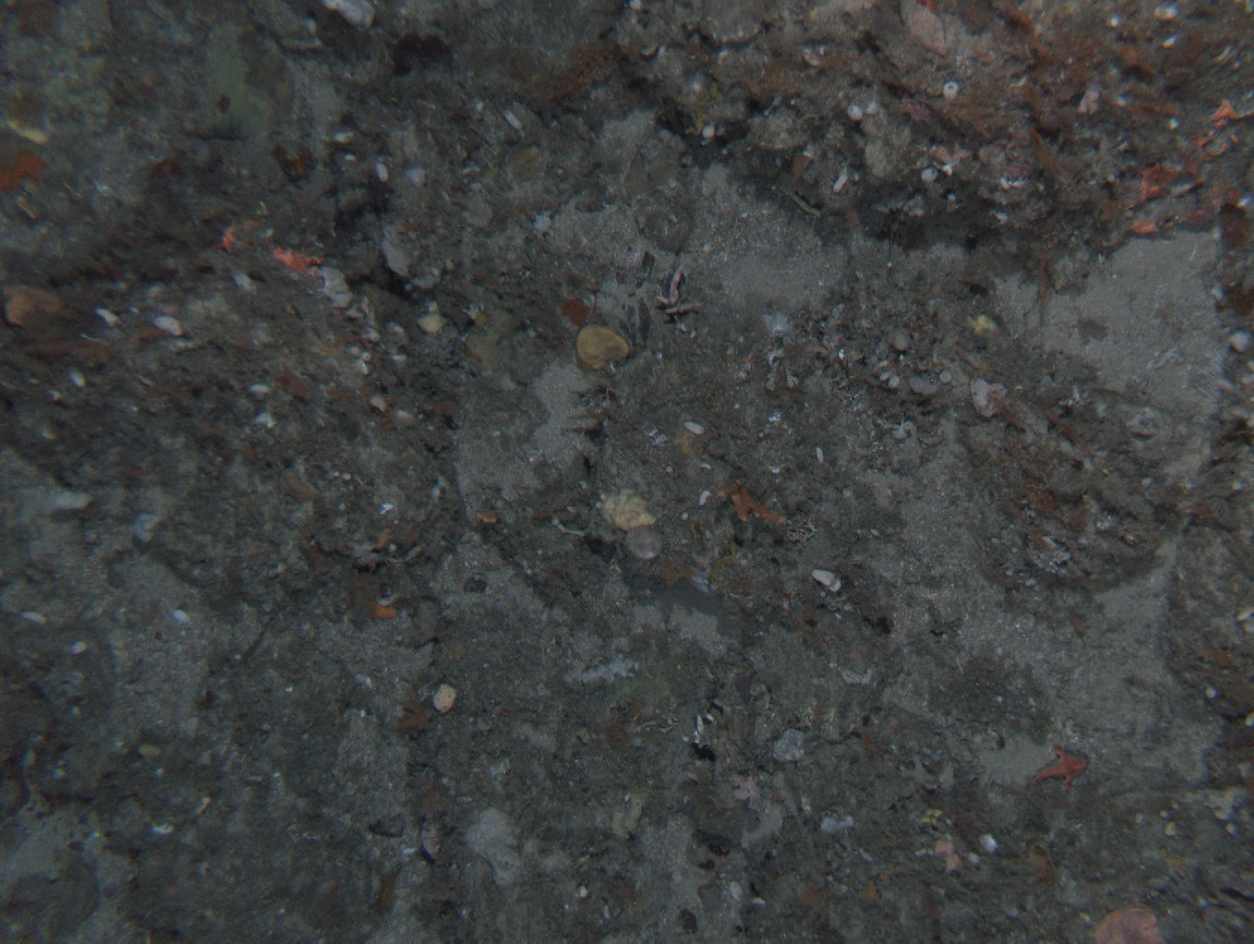Brachionichthyidae: (1031, 742, 1090, 796)
